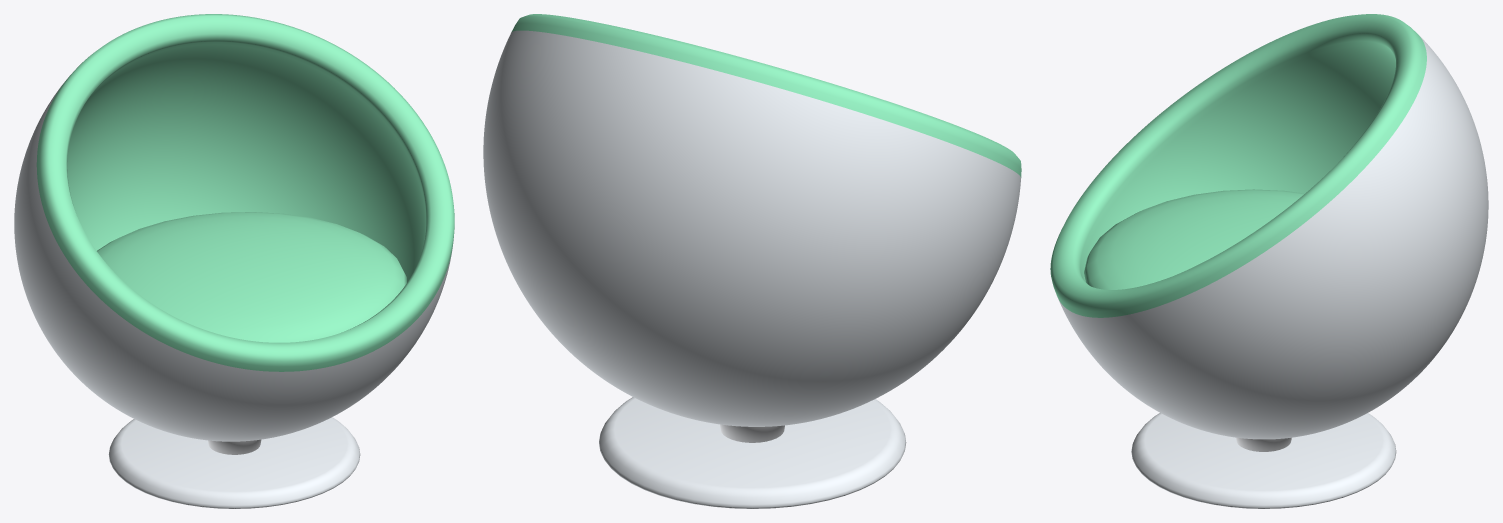
Rendered from pod_chair.glb.
The picture shows the model from 3 angles, left to right: view 1: azimuth 30°, elevation 25°; view 2: azimuth 150°, elevation 25°; view 3: azimuth 270°, elevation 25°; orthographic projection. The views are drawn at different scales.
Visible parts, largest first — view 1: PodChair; view 2: PodChair; view 3: PodChair.
Boxes of the visible parts, box(x1,y1,x2,y2) form: PodChair: box(14, 14, 454, 508); PodChair: box(483, 14, 1021, 508); PodChair: box(1050, 14, 1488, 508).
Bounding box in the file's own units: 0.9382 × 0.8926 × 0.8761.
